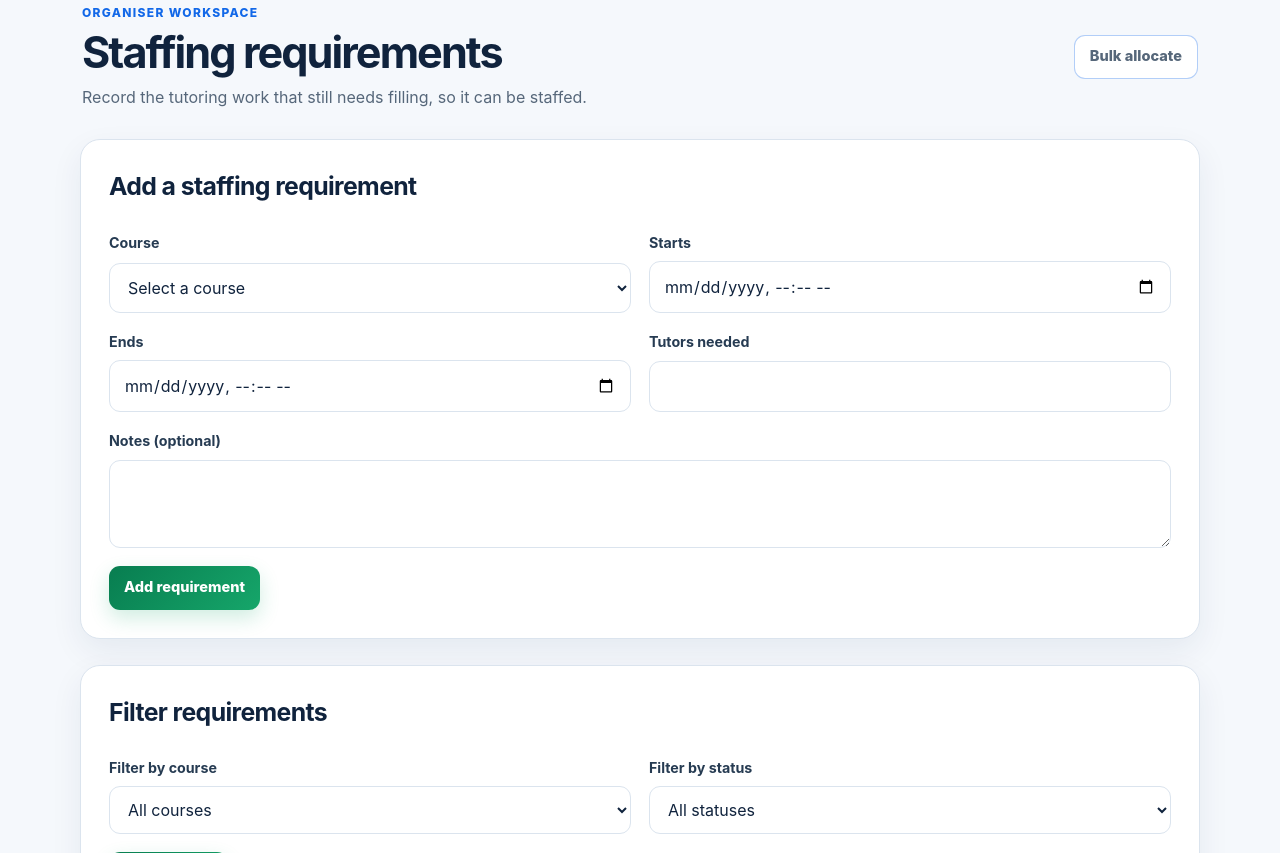
Test case: StaffingRequirements › adds a requirement and reloads the list
This screenshot has width=1280, height=853.
Select "COMS3011 - Software Design Project" in the dropdown labelled "Course" at (370, 288), box [109, 263, 631, 313]
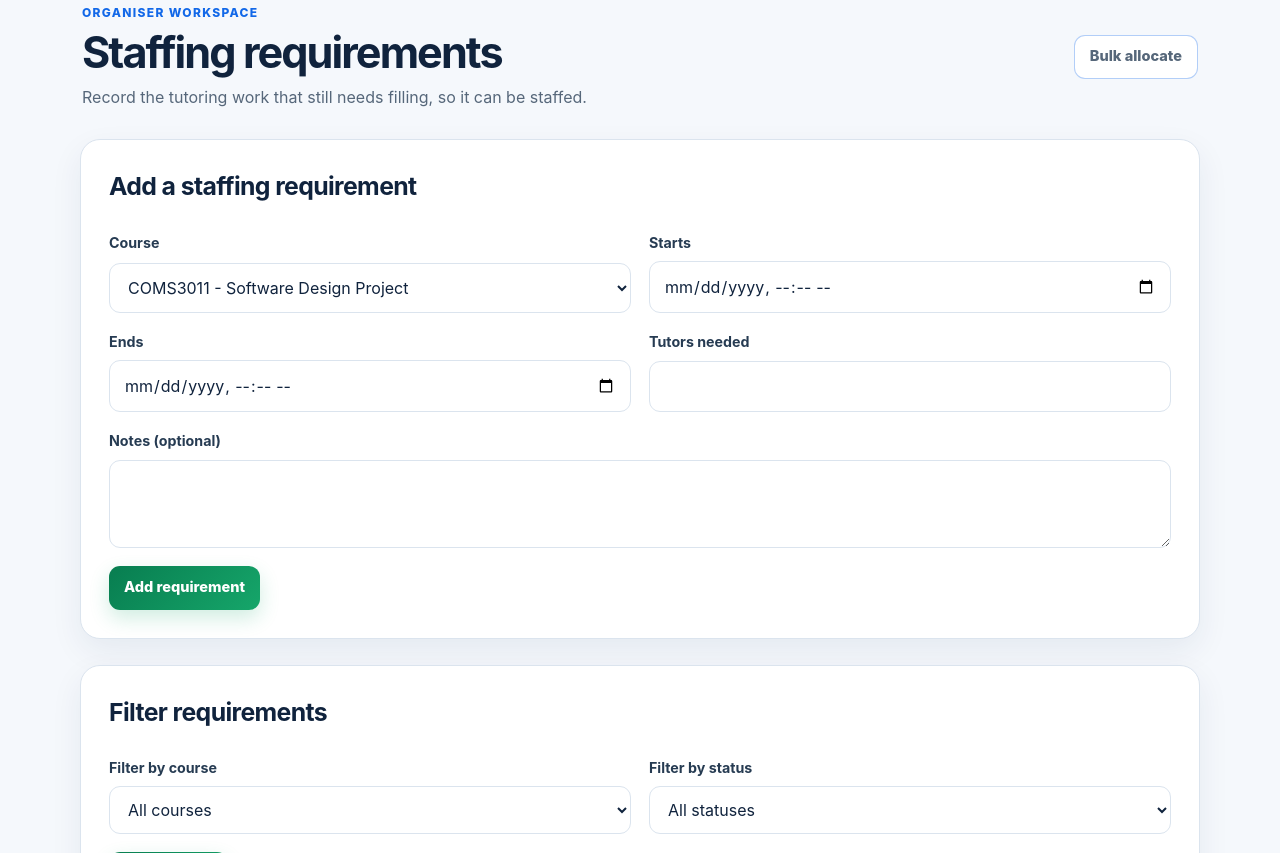
Type "2030-09-04T14:00" into the field labelled "Starts" at (910, 287), box [649, 261, 1171, 313]
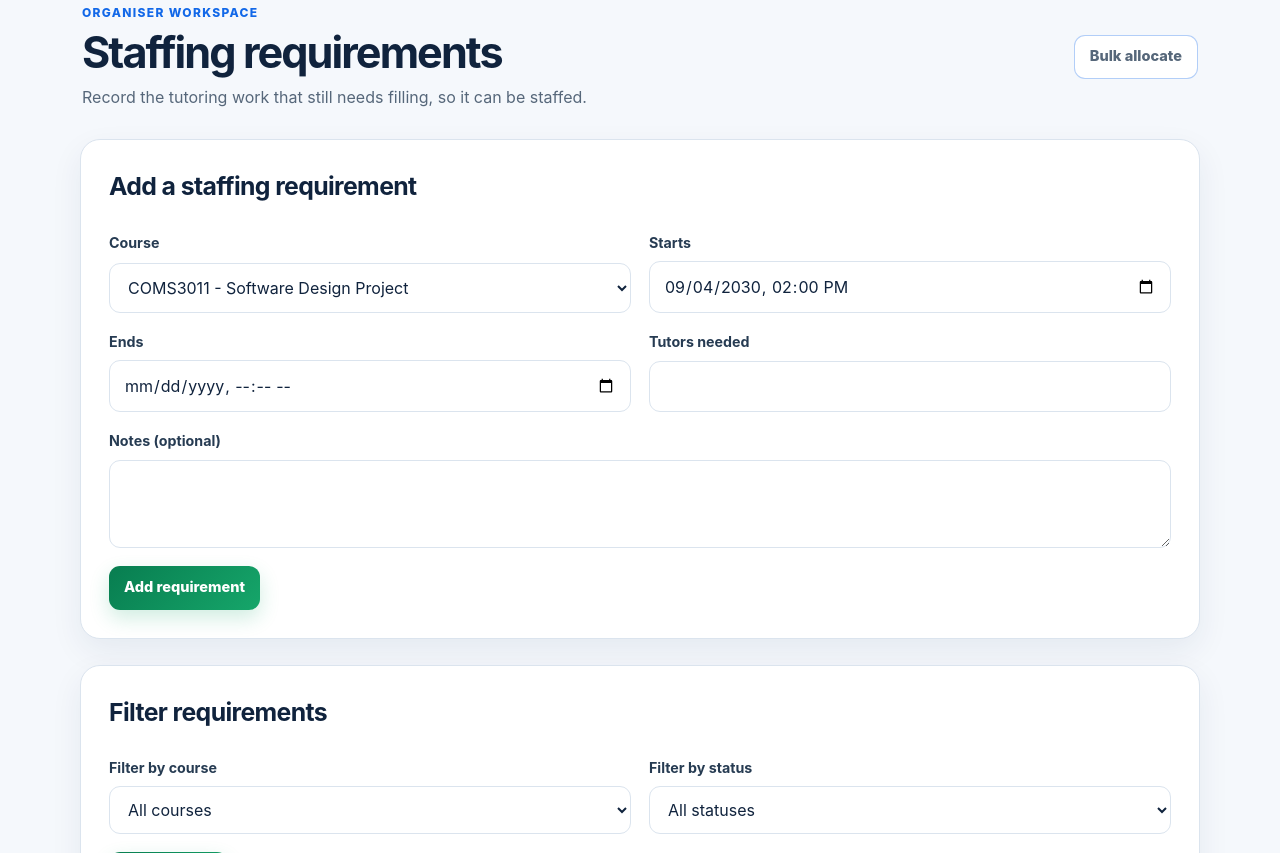
Type "2030-09-04T18:00" into the field labelled "Ends" at (370, 386), box [109, 360, 631, 412]
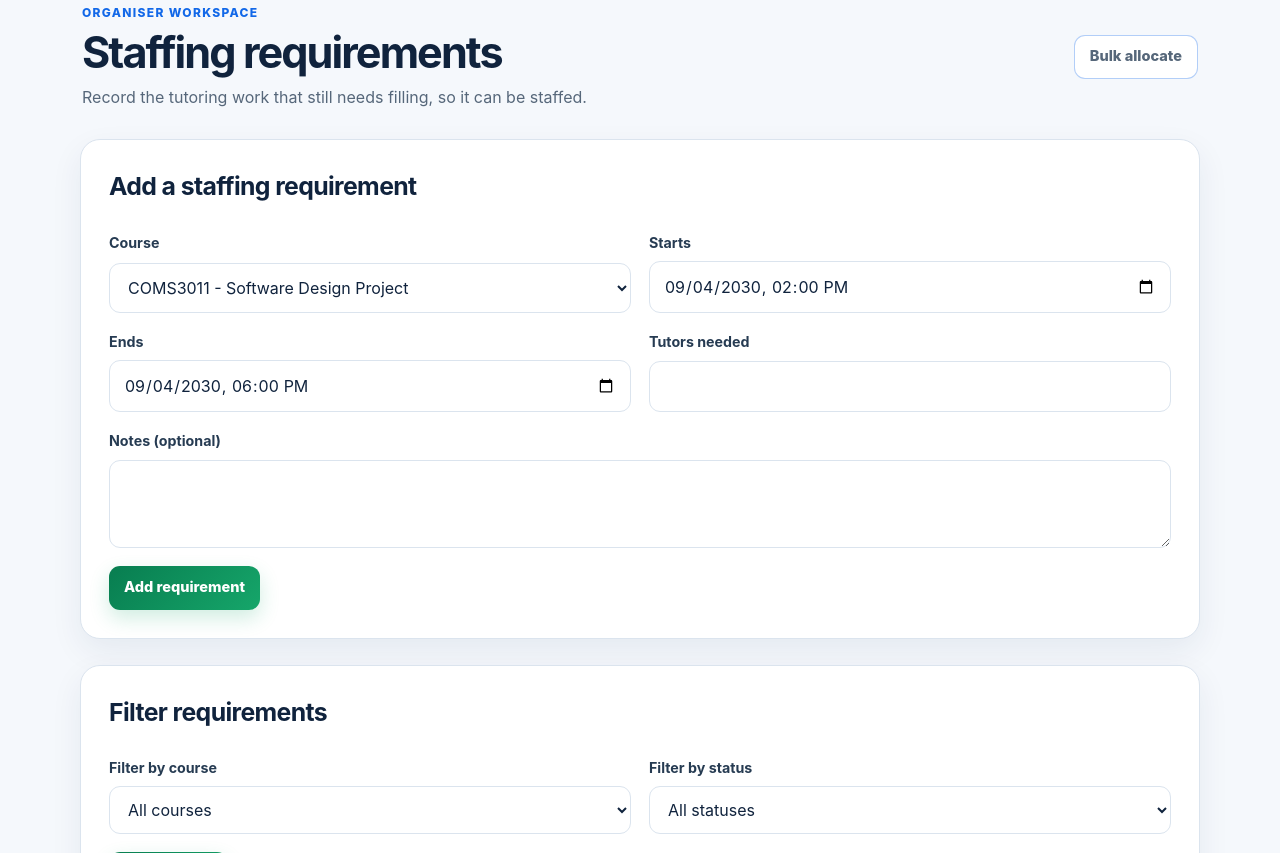
Type "2" into the number field labelled "Tutors needed" at (910, 387), box [649, 361, 1171, 412]
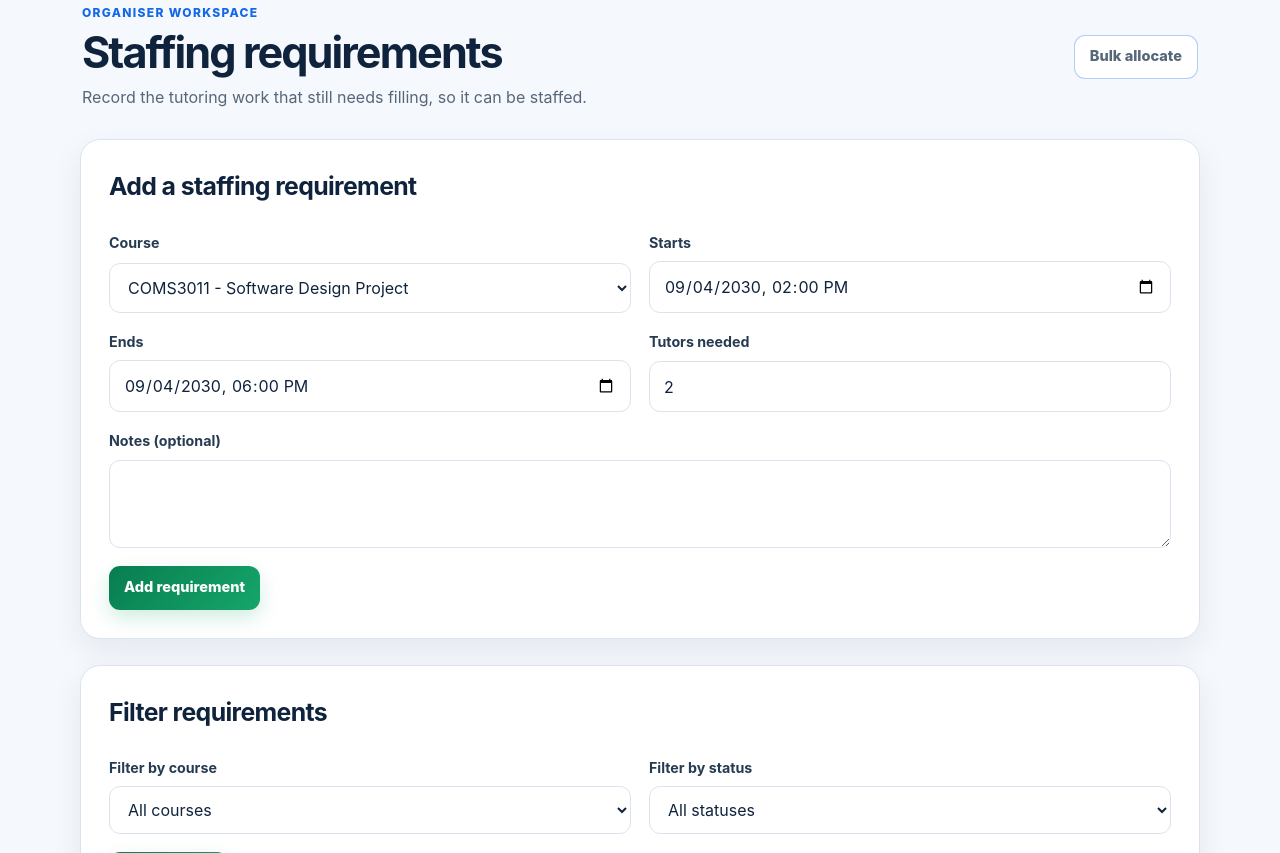
Type " Lab cover " into the text box labelled "Notes (optional)" at (640, 504), box [109, 460, 1171, 548]
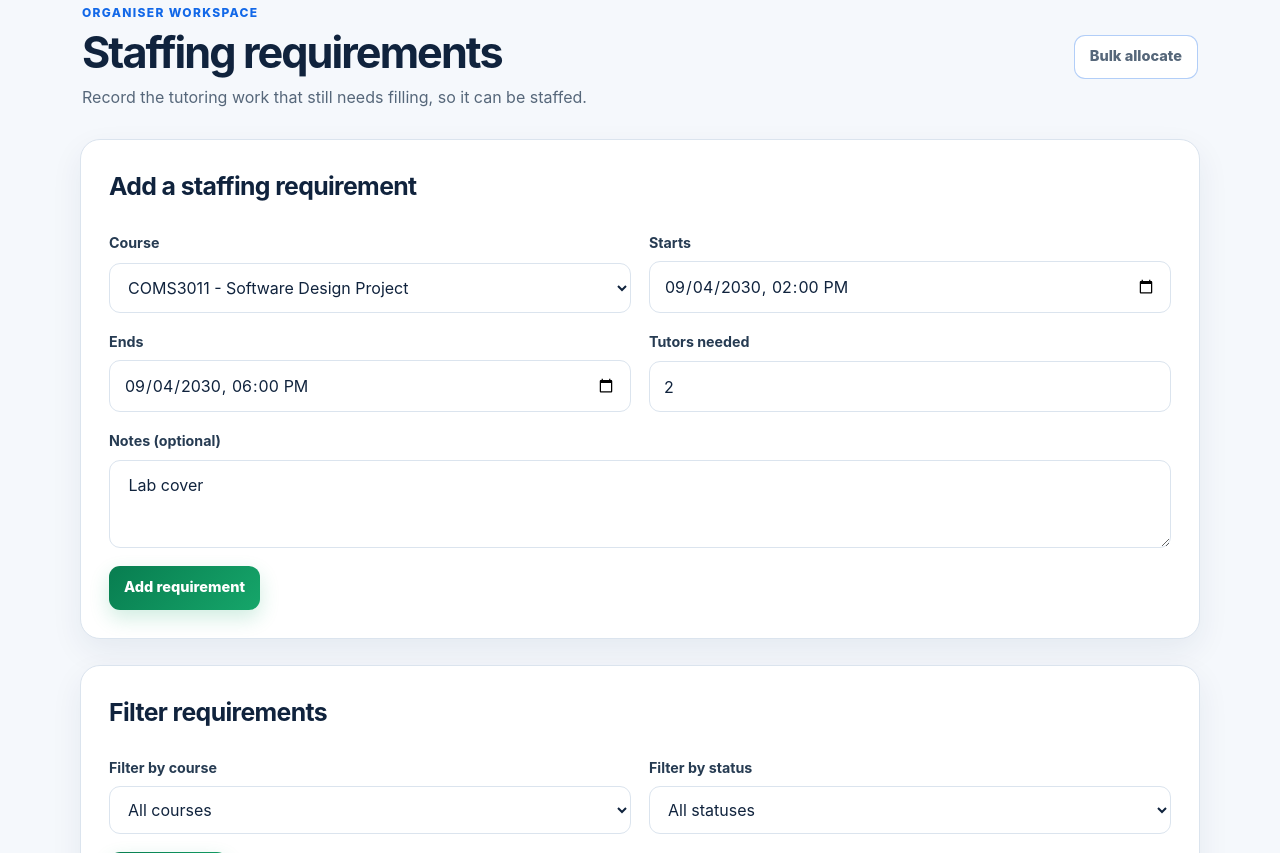
Click the button "Add requirement" at (184, 588), box [109, 566, 260, 610]
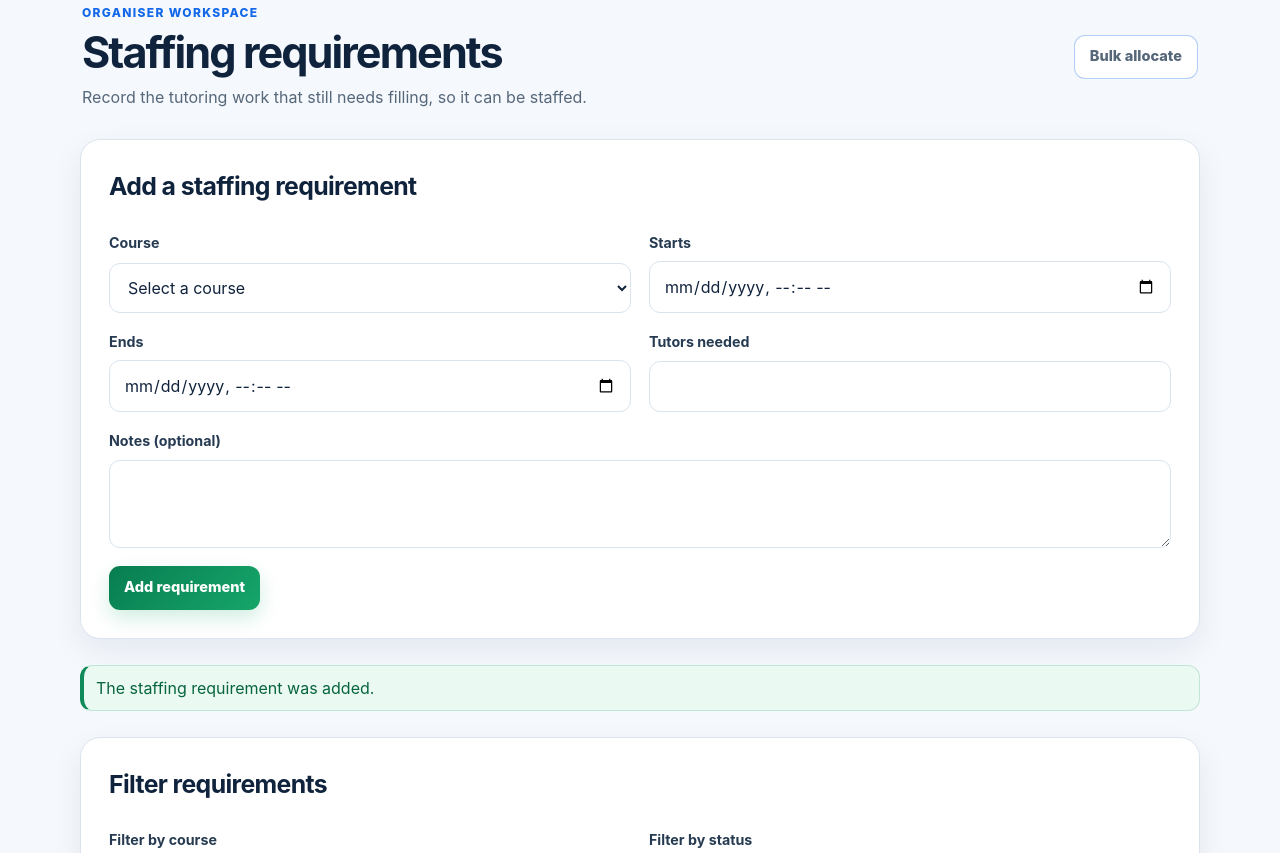
Check: the text "The staffing requirement was added." is shown, box [80, 665, 1200, 711]
